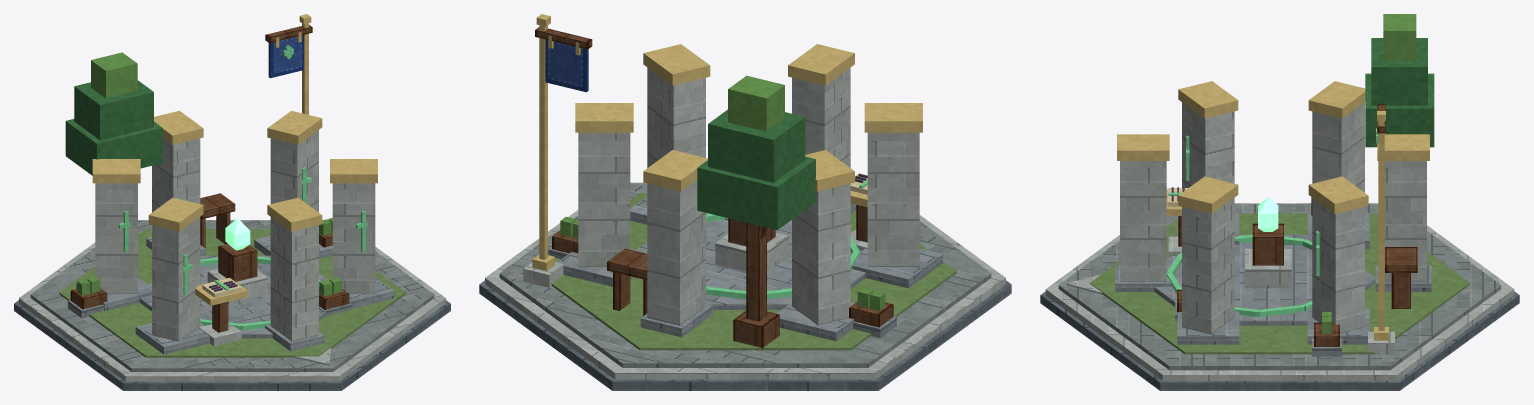
The model's file is druidic_circle_hex_v1.glb.
3 views of the same model, side by side, from view 1: azimuth 30°, elevation 25°; view 2: azimuth 150°, elevation 25°; view 3: azimuth 270°, elevation 25° (orthographic). The views are drawn at different scales.
Parts seen in each view (by area): view 1: Druidic_Circle_Hex_V1_Hall, Druidic_Circle_Hex_V1_Foundation, Druidic_Circle_Hex_V1_Focus, Druidic_Circle_Hex_V1_Courtyard, Druidic_Circle_Hex_V1_Roofs, Druidic_Circle_Hex_V1_Training, Druidic_Circle_Hex_V1_Details, Druidic_Circle_Hex_V1_Faction; view 2: Druidic_Circle_Hex_V1_Hall, Druidic_Circle_Hex_V1_Foundation, Druidic_Circle_Hex_V1_Focus, Druidic_Circle_Hex_V1_Courtyard, Druidic_Circle_Hex_V1_Roofs, Druidic_Circle_Hex_V1_Faction, Druidic_Circle_Hex_V1_Training, Druidic_Circle_Hex_V1_Details; view 3: Druidic_Circle_Hex_V1_Hall, Druidic_Circle_Hex_V1_Foundation, Druidic_Circle_Hex_V1_Courtyard, Druidic_Circle_Hex_V1_Focus, Druidic_Circle_Hex_V1_Roofs, Druidic_Circle_Hex_V1_Training, Druidic_Circle_Hex_V1_Faction, Druidic_Circle_Hex_V1_Details.
Part boxes in pixels (bbox=[...]): Druidic_Circle_Hex_V1_Hall: bbox=[76, 130, 394, 354]; Druidic_Circle_Hex_V1_Foundation: bbox=[14, 220, 450, 390]; Druidic_Circle_Hex_V1_Focus: bbox=[65, 52, 367, 304]; Druidic_Circle_Hex_V1_Courtyard: bbox=[59, 229, 405, 365]; Druidic_Circle_Hex_V1_Roofs: bbox=[92, 110, 377, 231]; Druidic_Circle_Hex_V1_Training: bbox=[195, 193, 320, 346]; Druidic_Circle_Hex_V1_Details: bbox=[68, 218, 351, 318]; Druidic_Circle_Hex_V1_Faction: bbox=[265, 14, 312, 114]; Druidic_Circle_Hex_V1_Hall: bbox=[557, 67, 942, 341]; Druidic_Circle_Hex_V1_Foundation: bbox=[479, 182, 1011, 390]; Druidic_Circle_Hex_V1_Focus: bbox=[697, 75, 815, 350]; Druidic_Circle_Hex_V1_Courtyard: bbox=[551, 193, 956, 350]; Druidic_Circle_Hex_V1_Roofs: bbox=[575, 44, 922, 191]; Druidic_Circle_Hex_V1_Faction: bbox=[523, 14, 592, 287]; Druidic_Circle_Hex_V1_Training: bbox=[607, 173, 867, 315]; Druidic_Circle_Hex_V1_Details: bbox=[548, 216, 896, 338]; Druidic_Circle_Hex_V1_Hall: bbox=[1115, 102, 1431, 344]; Druidic_Circle_Hex_V1_Foundation: bbox=[1040, 203, 1519, 390]; Druidic_Circle_Hex_V1_Courtyard: bbox=[1066, 213, 1469, 354]; Druidic_Circle_Hex_V1_Focus: bbox=[1186, 14, 1434, 288]; Druidic_Circle_Hex_V1_Roofs: bbox=[1117, 81, 1429, 213]; Druidic_Circle_Hex_V1_Training: bbox=[1166, 187, 1417, 316]; Druidic_Circle_Hex_V1_Faction: bbox=[1368, 104, 1394, 354]; Druidic_Circle_Hex_V1_Details: bbox=[1175, 197, 1341, 356].
Size of the model in its own units: 1.59 by 1.08 by 1.84.
Materials: 1 (1 with a texture image).
